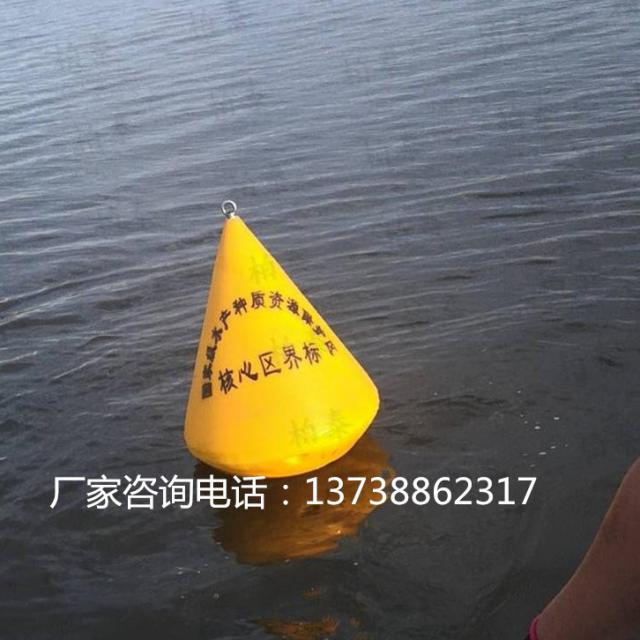buoy: (181, 200, 380, 478)
